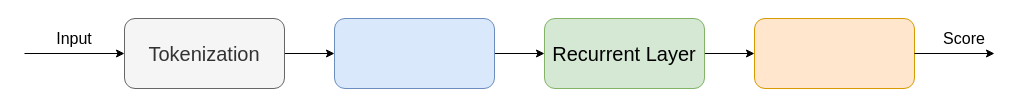
Image size: 1020x106. Some labels were removed from this diagram. The shapes that lost their labels are listed below. From the top down, each one's box as (x1, y1, x2, y2) in pixels, then its label:
(334, 18, 494, 88): Convolution Layer
(754, 18, 914, 88): Sigmoid Activation Function
